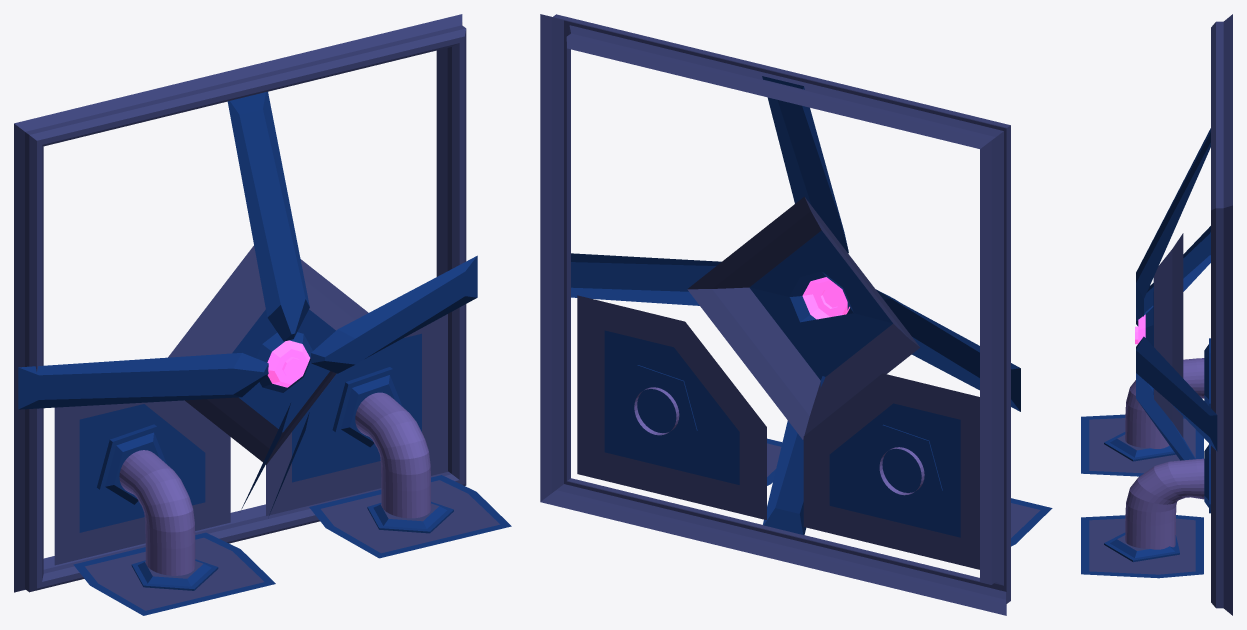
Rendered from Mur_mine01.fbx.
3 views of the same model, side by side, from view 1: azimuth 30°, elevation 25°; view 2: azimuth 150°, elevation 25°; view 3: azimuth 270°, elevation 25° (orthographic). The views are drawn at different scales.
Visible parts, largest first — view 1: Mur01.002; view 2: Mur01.002; view 3: Mur01.002.
Part boxes in pixels (x1,y1,x2,y2): Mur01.002: (14,14,511,615); Mur01.002: (540,14,1052,615); Mur01.002: (1081,14,1232,615).
Size of the model in its own units: 167 by 163 by 54.52.
